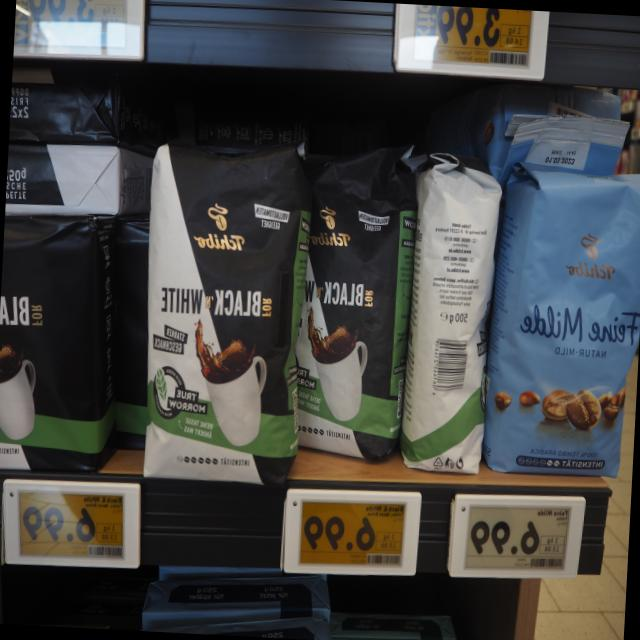BW Bohne: (130, 128, 322, 492), (298, 132, 422, 472), (398, 140, 509, 481)
BW Gemahlen: (0, 207, 113, 485)
FM Bohne: (487, 159, 640, 486)
